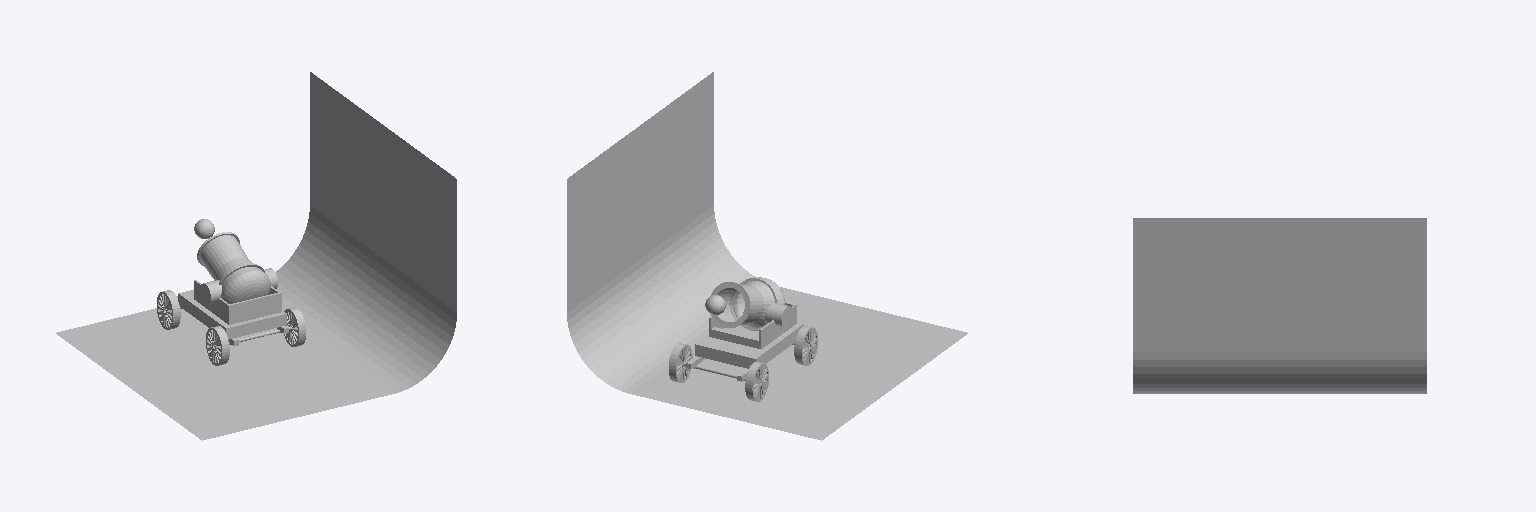
Rendered from Cannon.obj.
The picture shows the model from 3 angles: view 1: azimuth 30°, elevation 25°; view 2: azimuth 150°, elevation 25°; view 3: azimuth 270°, elevation 25°; orthographic projection.
Visible parts, largest first — view 1: Plane.001, Cylinder.001_Cylinder.005, Cube, Cylinder_Cylinder.001, Cylinder.004_Cylinder, Plane, Cylinder.003_Cylinder.000; view 2: Plane.001, Cylinder.001_Cylinder.005, Cube, Cylinder.003_Cylinder.000, Plane, Cylinder.004_Cylinder, Cylinder_Cylinder.001; view 3: Plane.001.
Boxes of the visible parts, <box> form: Plane.001: <box>56,72,456,440</box>; Cylinder.001_Cylinder.005: <box>197,232,270,303</box>; Cube: <box>178,290,286,339</box>; Cylinder_Cylinder.001: <box>206,307,305,365</box>; Cylinder.004_Cylinder: <box>194,268,281,324</box>; Plane: <box>194,281,281,324</box>; Cylinder.003_Cylinder.000: <box>157,290,181,329</box>; Plane.001: <box>567,72,967,440</box>; Cylinder.001_Cylinder.005: <box>711,277,784,330</box>; Cube: <box>695,322,803,368</box>; Cylinder.003_Cylinder.000: <box>669,343,768,401</box>; Plane: <box>709,302,796,349</box>; Cylinder.004_Cylinder: <box>715,296,796,348</box>; Cylinder_Cylinder.001: <box>792,326,817,365</box>; Plane.001: <box>1133,218,1426,393</box>.
Size of the model in its own units: 8.01 by 5.99 by 8.01.